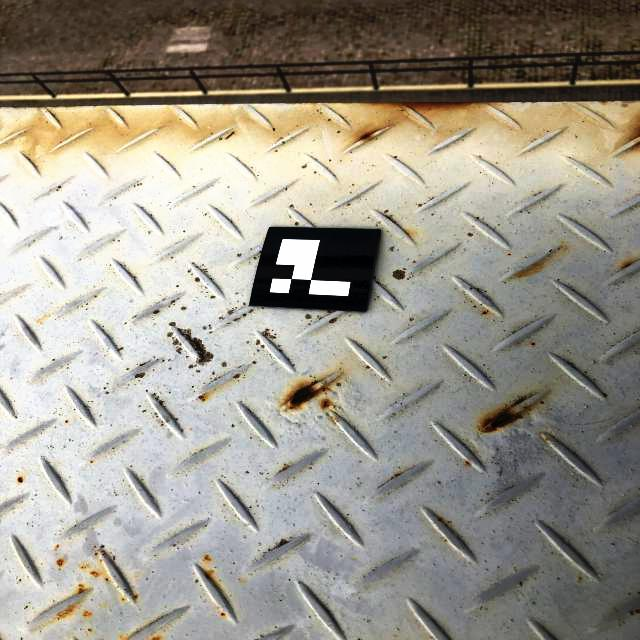Corrosion: (289, 382, 319, 409), (380, 102, 472, 109), (486, 410, 516, 429), (361, 131, 374, 140), (321, 400, 329, 408), (207, 570, 212, 578), (57, 560, 63, 566), (204, 554, 210, 560), (78, 587, 84, 593), (84, 611, 90, 616), (92, 572, 98, 576), (221, 612, 226, 616), (134, 595, 137, 598), (105, 578, 108, 581)
